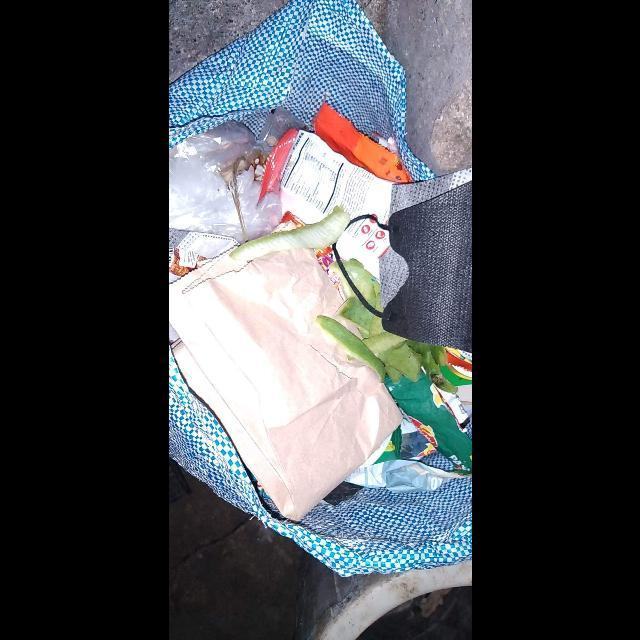biowaste: (315, 258, 457, 393), (229, 205, 349, 262)
paper: (168, 249, 402, 521)
wrapper: (256, 127, 396, 225)
